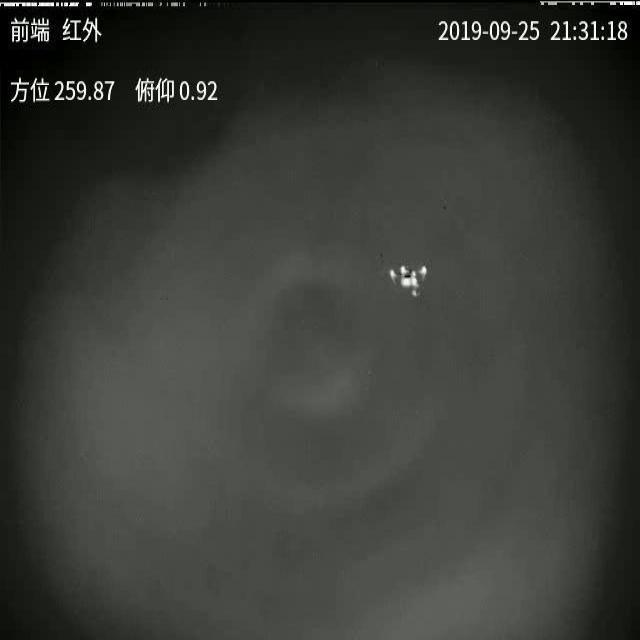drone: (384, 266, 432, 296)
